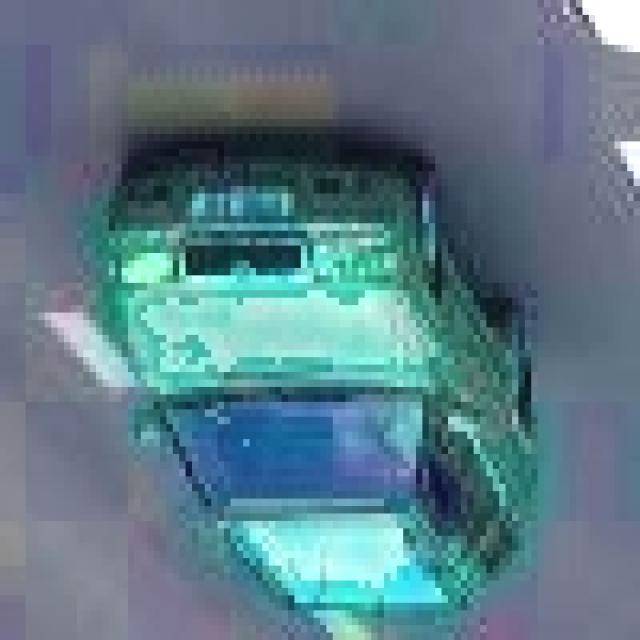green: (105, 156, 540, 618)
